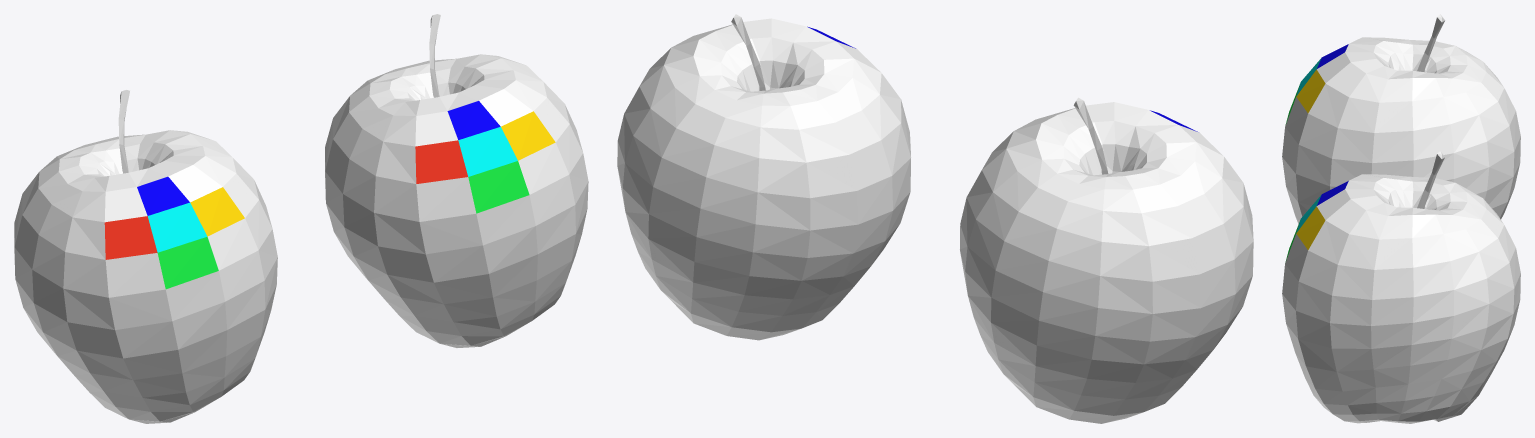
The model's file is frutta_testvertex_b.glb.
3 views of the same model, side by side, from view 1: azimuth 30°, elevation 25°; view 2: azimuth 150°, elevation 25°; view 3: azimuth 270°, elevation 25° (orthographic). The views are drawn at different scales.
Parts seen in each view (by area): view 1: Apple.001; view 2: Apple.001; view 3: Apple.001.
Boxes of the visible parts, x1,y1,x2,y2 form: Apple.001: [14, 14, 588, 423]; Apple.001: [617, 14, 1253, 423]; Apple.001: [1282, 14, 1520, 423].
Size of the model in its own units: 3.25 by 1.72 by 1.39.
